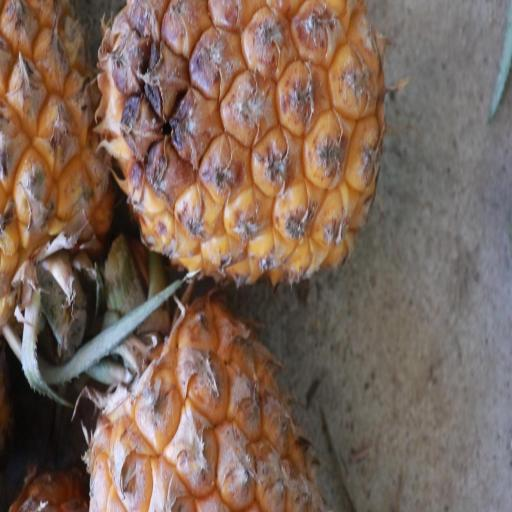Pineapple - v8 v1: (86, 0, 393, 296), (79, 299, 317, 512)
